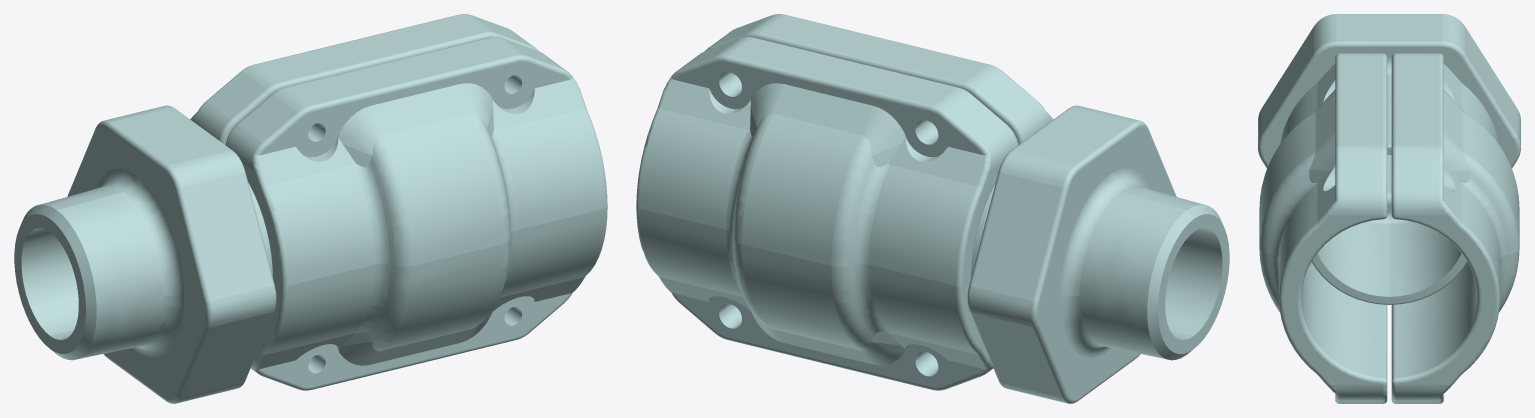
3 renders of one model, left to right at view 1: azimuth 30°, elevation 25°; view 2: azimuth 150°, elevation 25°; view 3: azimuth 270°, elevation 25°, orthographic. The views are drawn at different scales.
Bounding box in the file's own units: 119 × 65 × 60.53.
